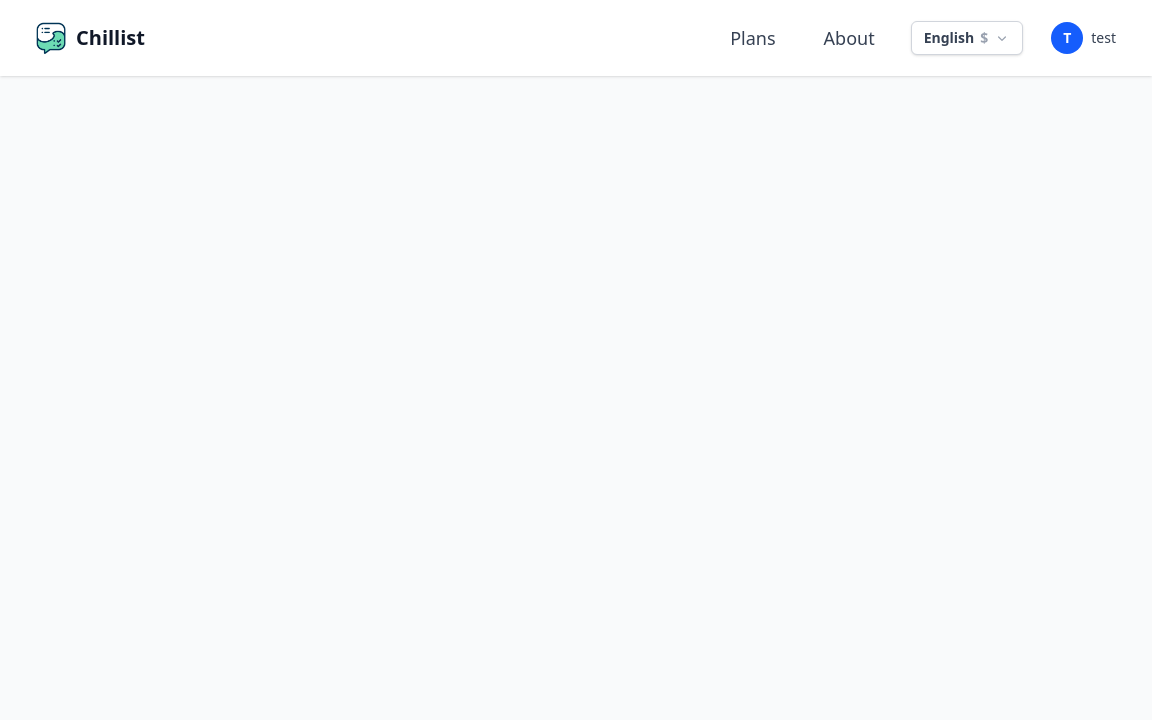
Test case: Header › authenticated - user dropdown › closes dropdown when clicking outside
Click the button with aria-label "User menu": (1084, 38) [1047,18,1120,58]
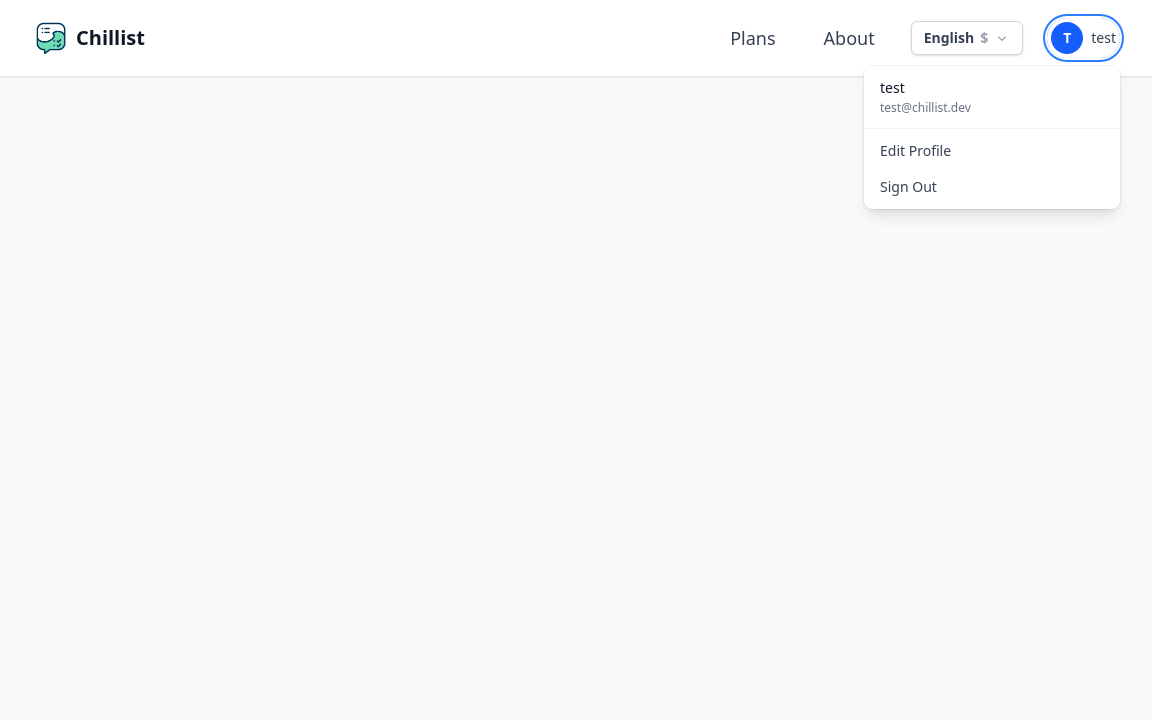
Now the text "test@chillist.dev" is shown, box [880,99,971,116]
Click the element that starts with "Chillist": (576, 360) [0,0,1151,719]
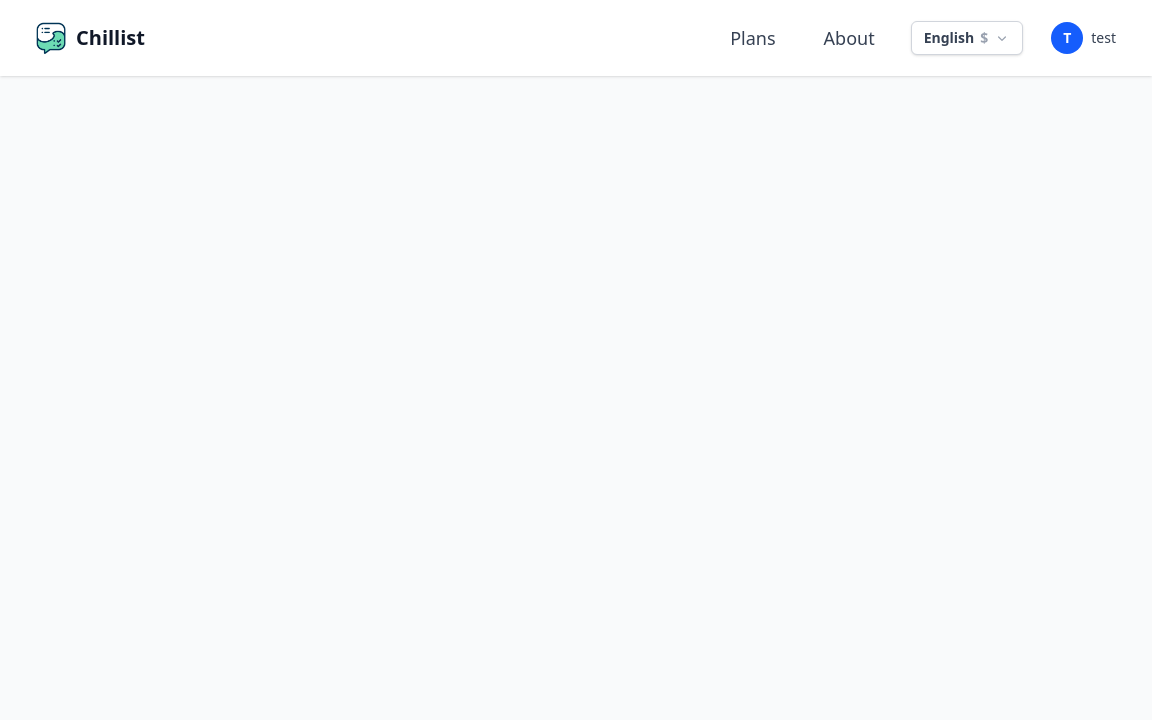
Now the text with test id "menu-email" is gone
